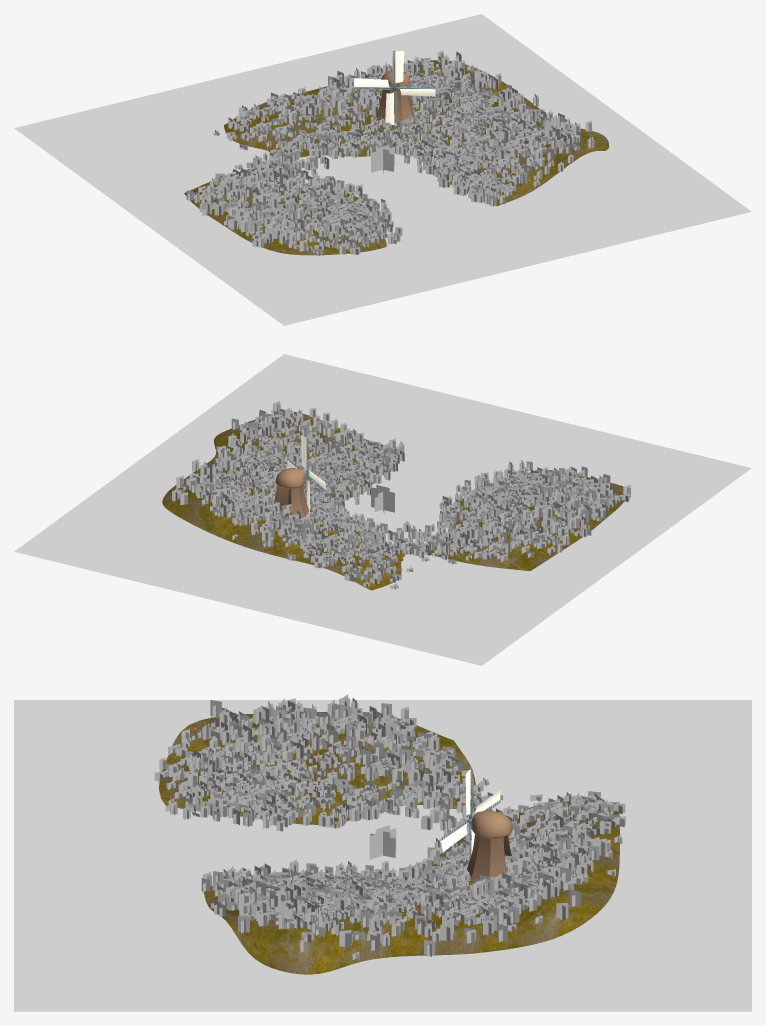
The picture shows the model from 3 angles, top to bottom: view 1: azimuth 30°, elevation 25°; view 2: azimuth 150°, elevation 25°; view 3: azimuth 270°, elevation 25°; orthographic projection. The views are drawn at different scales.
Visible parts, largest first — view 1: water, ground, canvas, walls; view 2: water, ground, walls, roof; view 3: water, ground, walls, roof, canvas.
Part boxes in pixels (x1,y1,x2,y2): water: (14,14,751,325); ground: (184,60,609,255); canvas: (354,51,435,124); walls: (377,87,413,120); water: (14,354,751,665); ground: (162,412,624,590); walls: (274,484,309,517); roof: (275,468,305,488); water: (14,700,751,1011); ground: (158,712,619,974); walls: (467,834,511,879); roof: (471,810,512,838); canvas: (441,769,501,854).
Size of the model in its own units: 398 by 78.69 by 398.
Materials: 10 (1 with a texture image).
